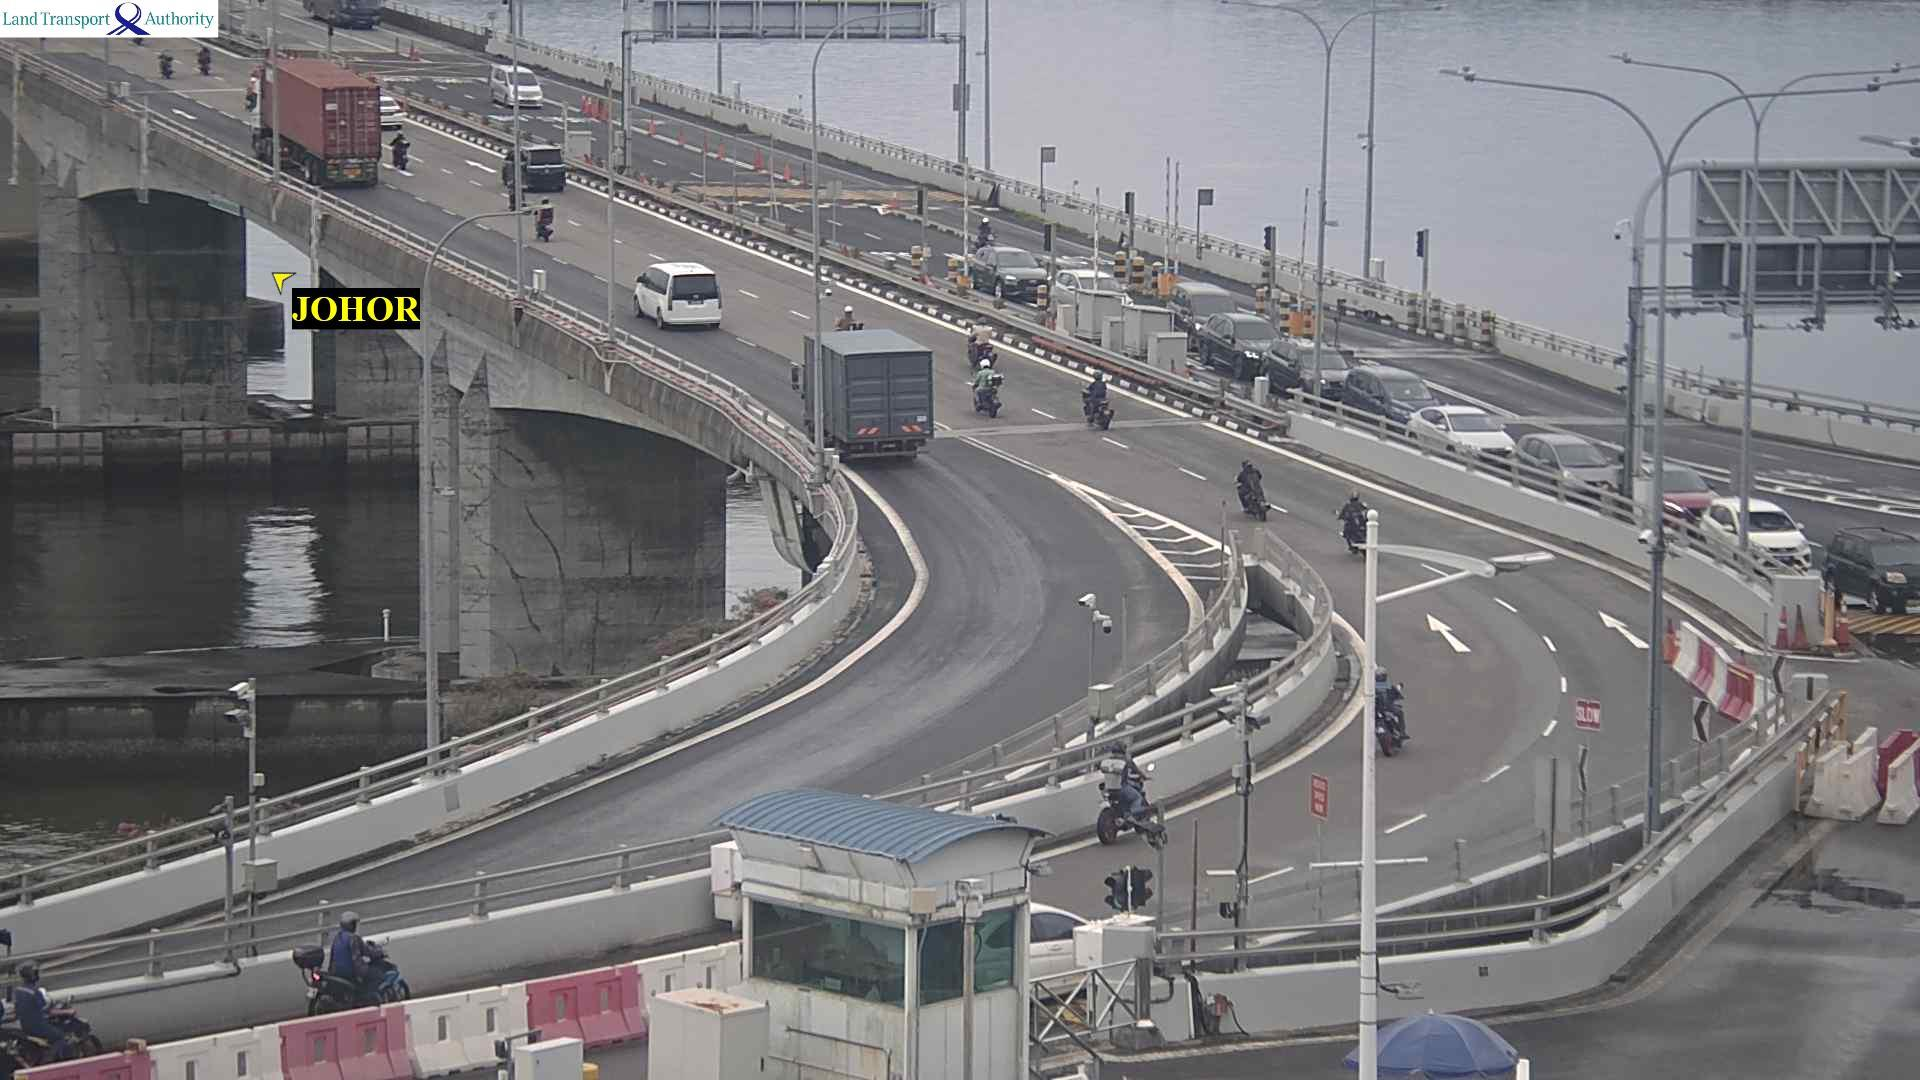vehicle-secondlink-johor: (247, 55, 374, 191), (260, 59, 394, 186), (805, 337, 923, 457), (0, 980, 105, 1073), (296, 932, 413, 1012), (626, 264, 719, 332), (1208, 330, 1306, 386), (493, 127, 564, 196), (1102, 758, 1158, 845), (1369, 672, 1410, 752), (1341, 497, 1381, 557), (1235, 461, 1269, 518), (1081, 381, 1113, 428), (977, 339, 1006, 382), (396, 130, 417, 178)
vehicle-secondlink-singapore: (1645, 500, 1815, 555), (1827, 528, 1920, 608), (1342, 368, 1451, 419), (1614, 469, 1729, 512), (1414, 410, 1529, 452), (1252, 348, 1338, 395), (1516, 436, 1622, 472), (1150, 289, 1261, 323), (964, 248, 1060, 284), (309, 0, 383, 28), (1875, 291, 1920, 330), (497, 76, 550, 105)
